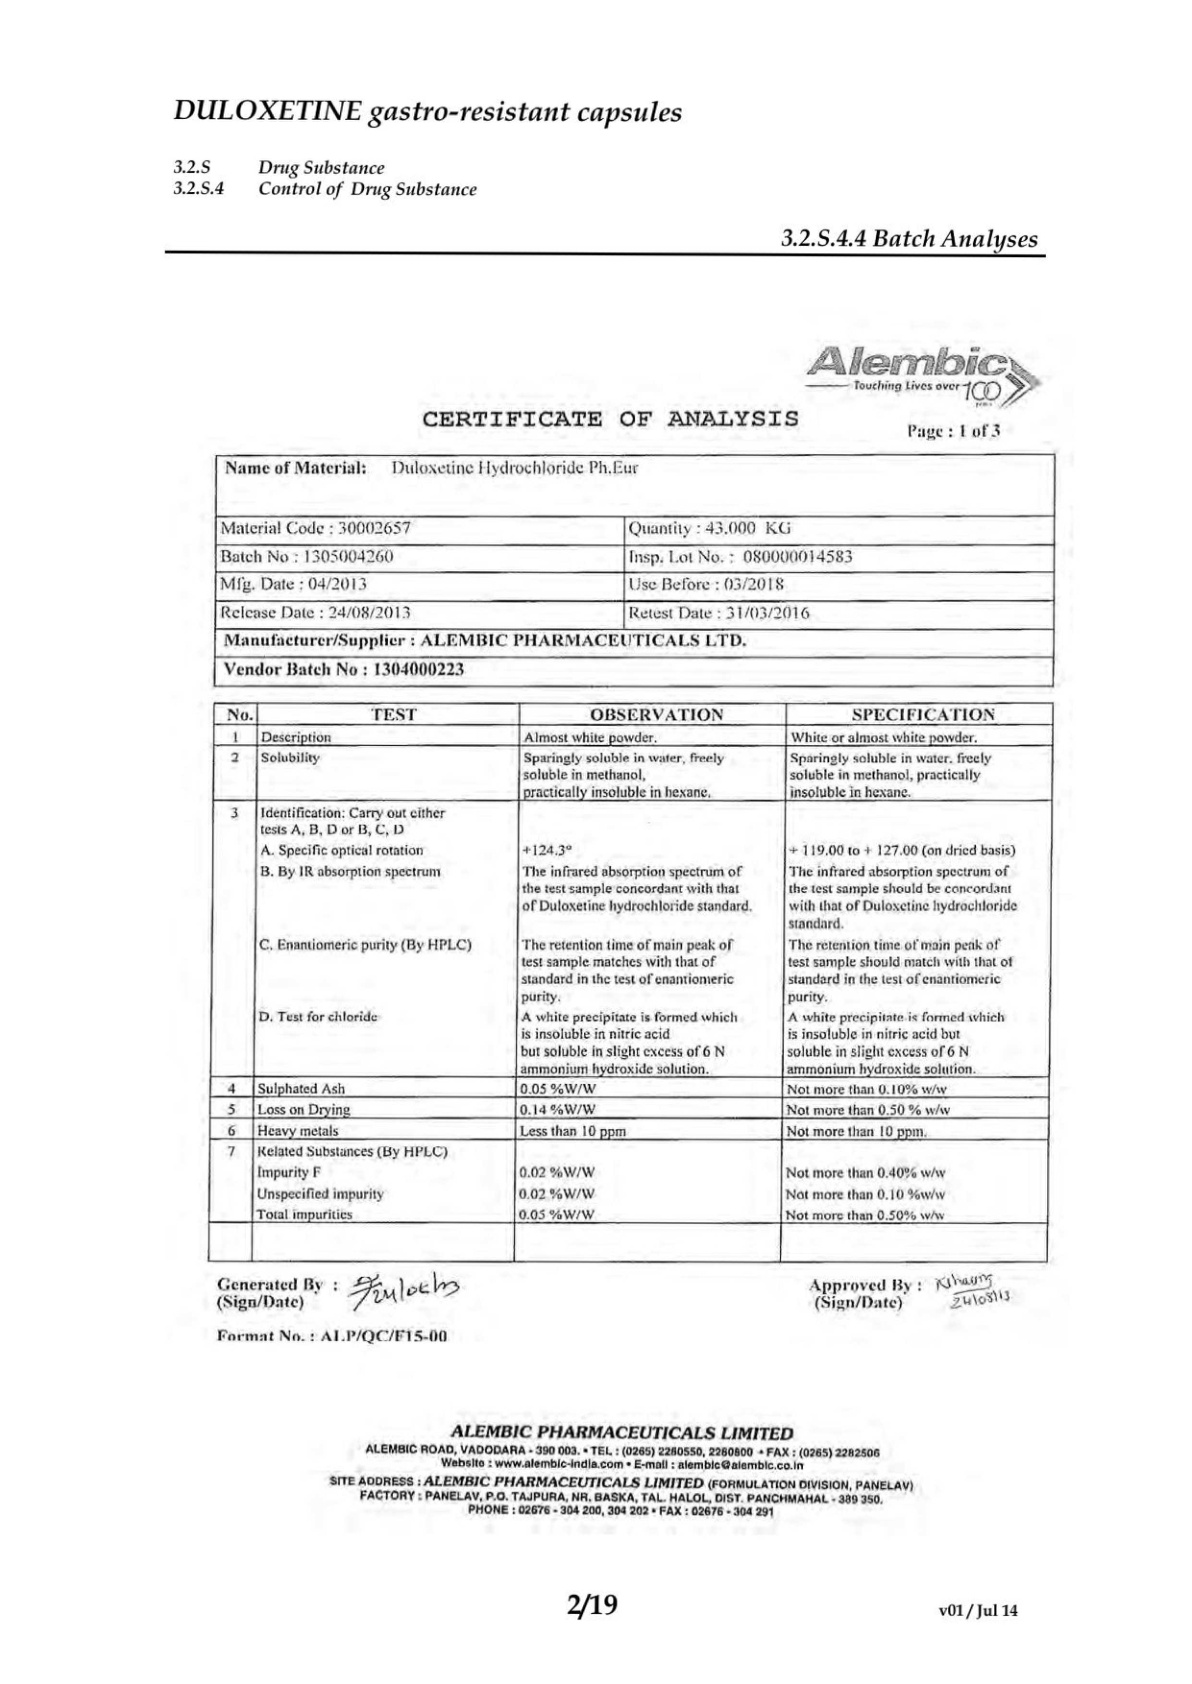full_lined: (206, 701, 1054, 1264)
merged_cells: (214, 453, 1057, 689)
